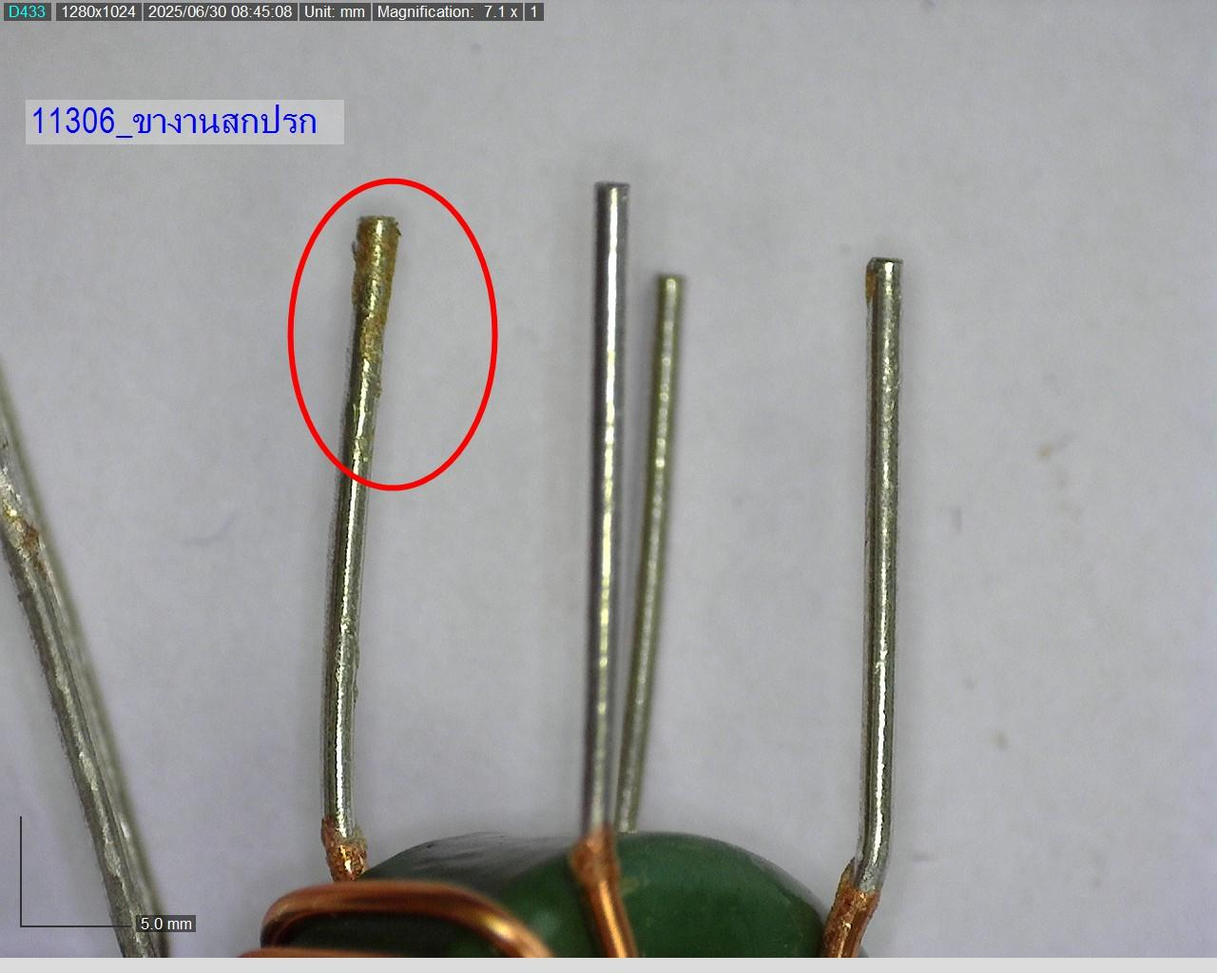varnish: (341, 206, 399, 452)
